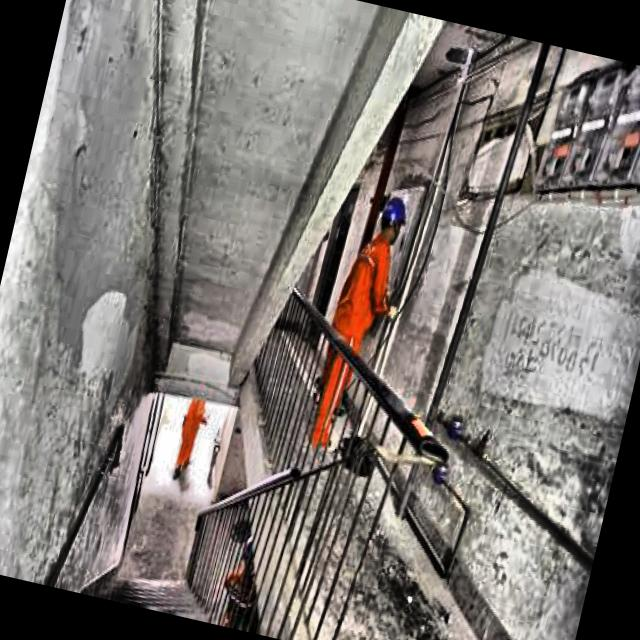helmet: (372, 186, 418, 248)
